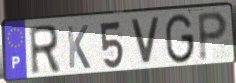5: (98, 19, 126, 70)
G: (164, 12, 196, 66)
K: (65, 24, 92, 71)
P: (196, 10, 230, 64)
R: (27, 23, 62, 78)
V: (128, 17, 162, 67)
